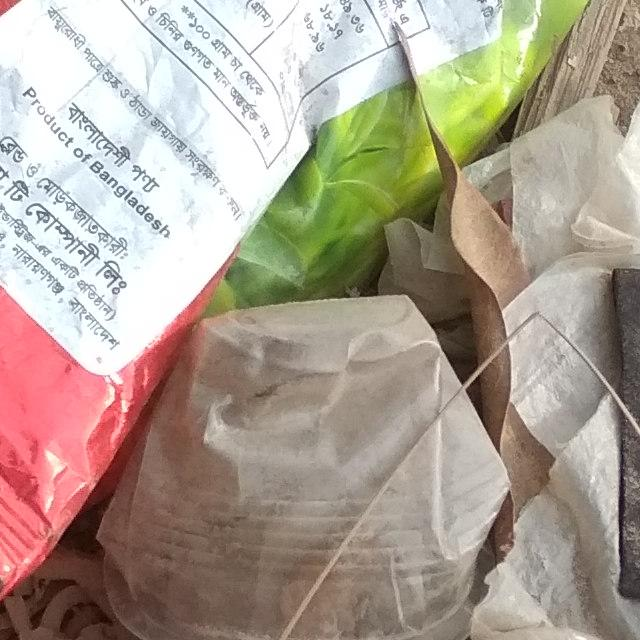plastic: (0, 0, 640, 593), (65, 271, 526, 640), (0, 58, 188, 640)
